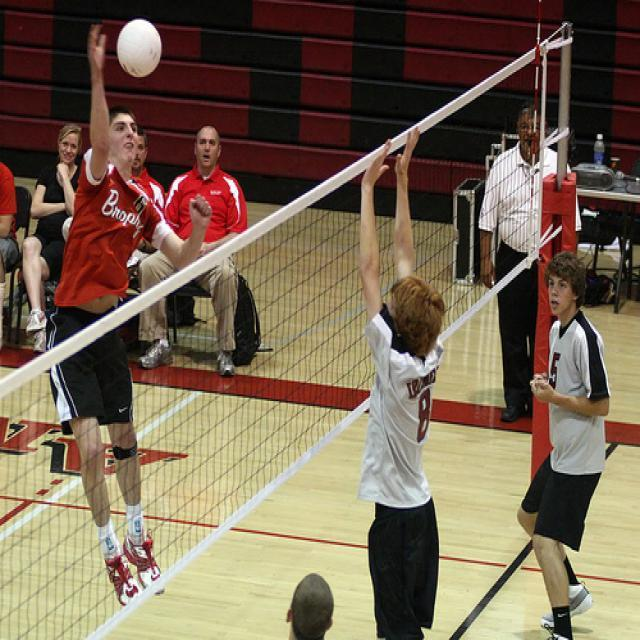volleyball: (118, 19, 160, 80)
